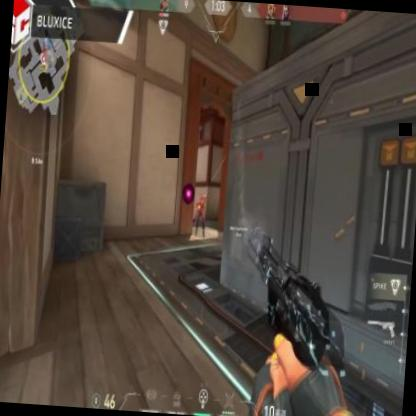enemy: (194, 192, 208, 240)
enemy_head: (200, 193, 206, 202)
